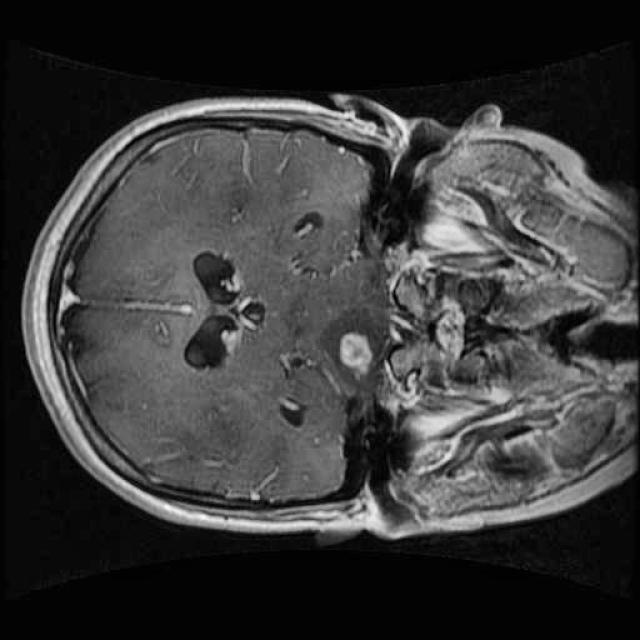Non-Tumor: (322, 315, 388, 388)
